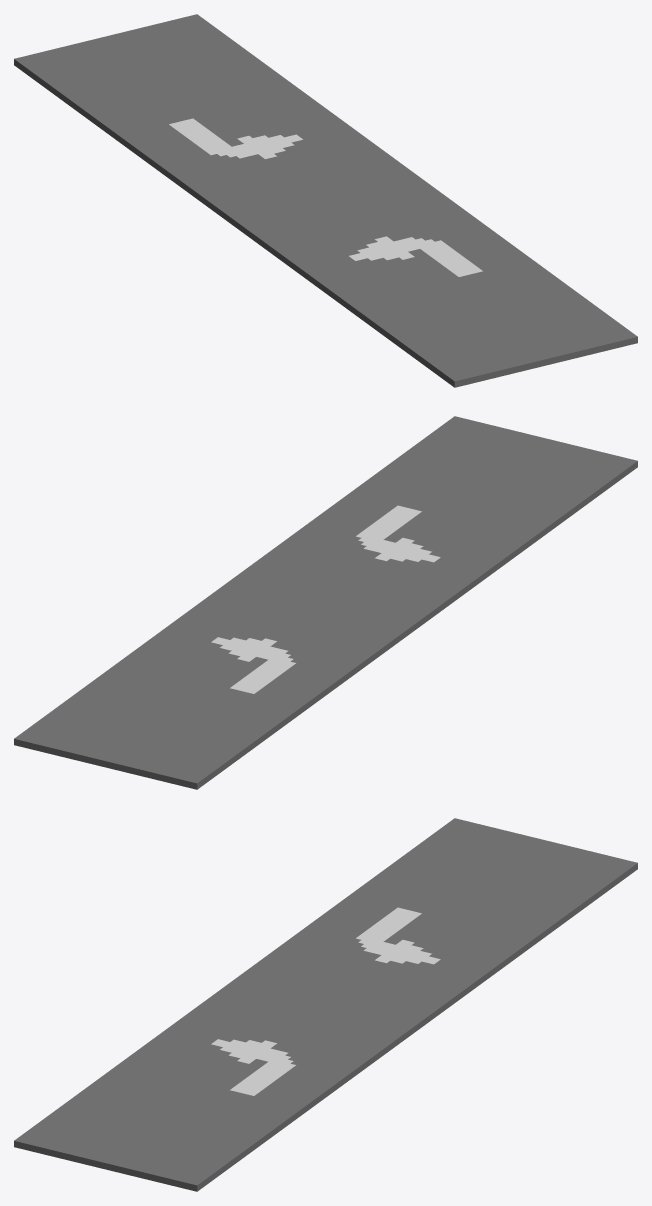
The model's file is turn-lane-shared.obj.
3 renders of one model, top to bottom at view 1: azimuth 30°, elevation 25°; view 2: azimuth 150°, elevation 25°; view 3: azimuth 330°, elevation 25°, orthographic.
Size of the model in its own units: 30 by 1 by 125.
